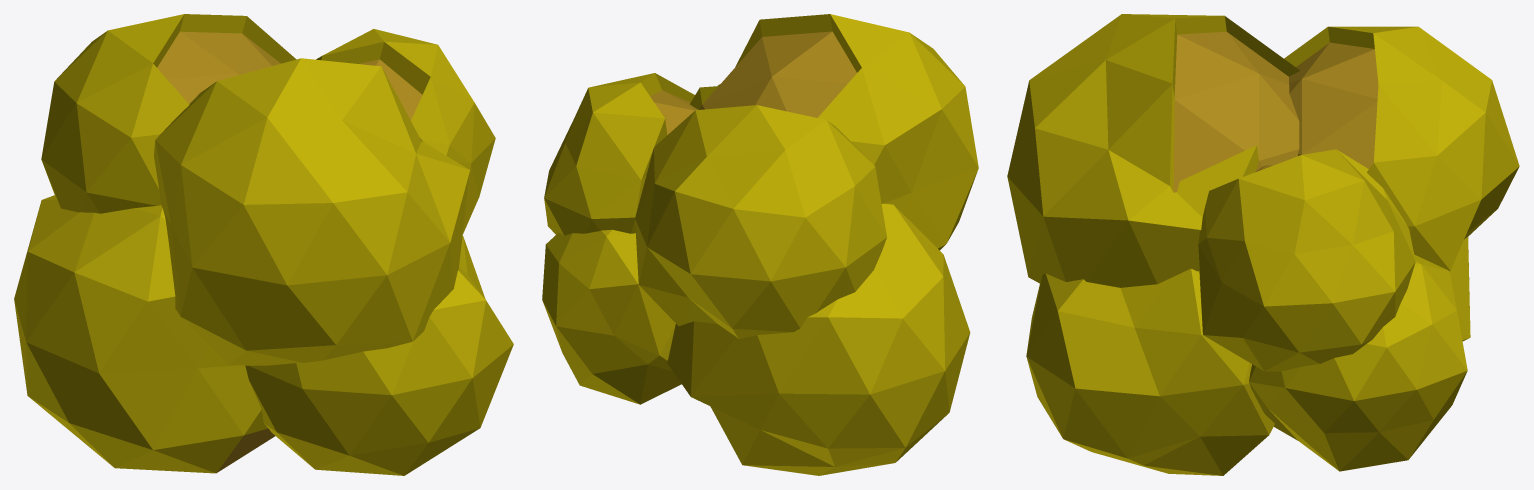
File: Popcorinka2.fbx
3 renders of one model, left to right at view 1: azimuth 30°, elevation 25°; view 2: azimuth 150°, elevation 25°; view 3: azimuth 270°, elevation 25°, orthographic. The views are drawn at different scales.
Visible parts, largest first — view 1: Icosphere.001, Icosphere.005; view 2: Icosphere.001, Icosphere.005; view 3: Icosphere.001, Icosphere.005.
Boxes of the visible parts, box(x1,y1,x2,y2) form: Icosphere.001: box(14, 14, 513, 475); Icosphere.005: box(157, 31, 422, 472); Icosphere.001: box(542, 14, 978, 475); Icosphere.005: box(650, 31, 856, 134); Icosphere.001: box(1007, 14, 1519, 475); Icosphere.005: box(1173, 31, 1378, 192).
Size of the model in its own units: 43.85 by 42.46 by 44.11.
